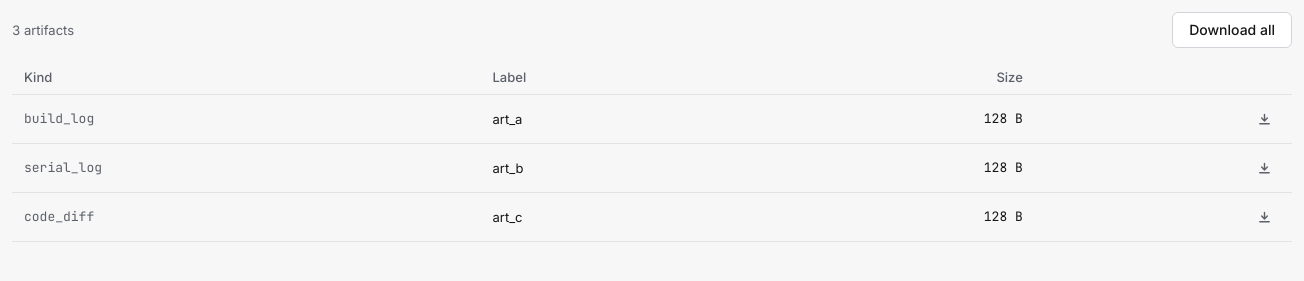
Test case: RawTab Download-all failure accumulation (P1 #8) › marks exactly the one row that failed, even when a later download succeeds
The width and height of the screenshot is (1304, 281).
Step 1. Click the button "Download all" → point(1232, 30), box [1172, 12, 1292, 48]
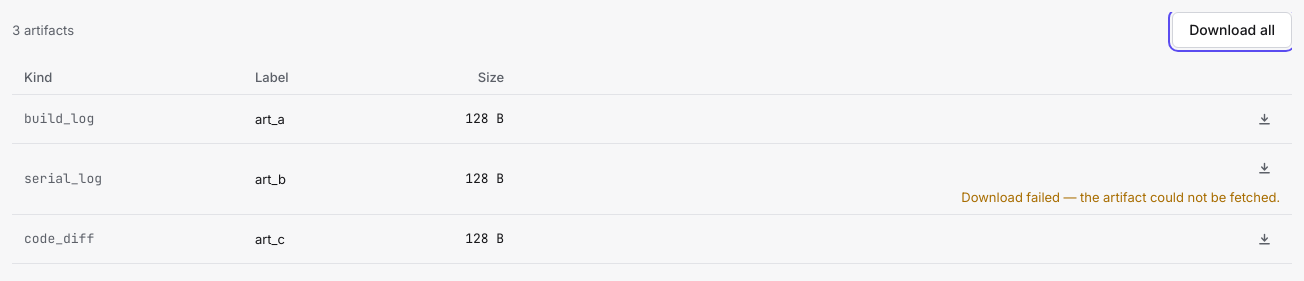
expect the row that starts with "serial_log" shows "art_b": met, box [255, 171, 286, 187]
expect the number of messages is 1: met, box [961, 189, 1280, 205]
